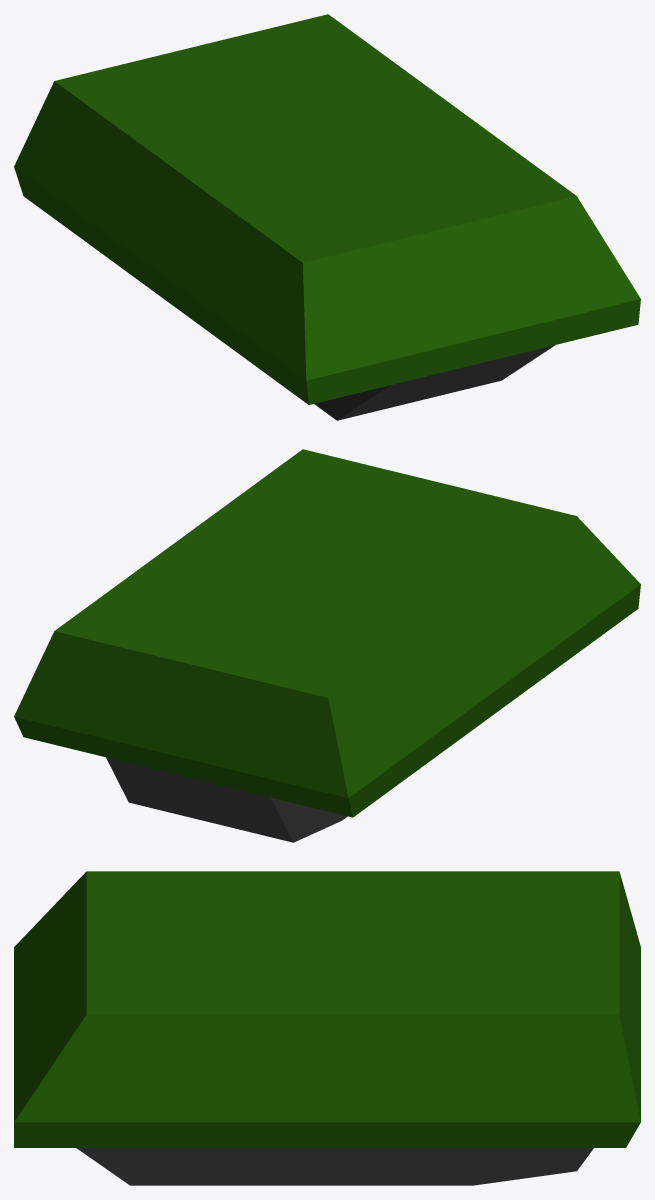
Rendered from tank_body.fbx.
The picture shows the model from 3 angles, top to bottom: view 1: azimuth 30°, elevation 25°; view 2: azimuth 150°, elevation 25°; view 3: azimuth 270°, elevation 25°; orthographic projection. The views are drawn at different scales.
Visible parts, largest first — view 1: Body; view 2: Body; view 3: Body.
Boxes of the visible parts, x1,y1,x2,y2 form: Body: (14, 14, 640, 420); Body: (14, 449, 640, 842); Body: (14, 871, 640, 1185).
Bounding box in the file's own units: 7.6 × 4.04 × 11.5.
